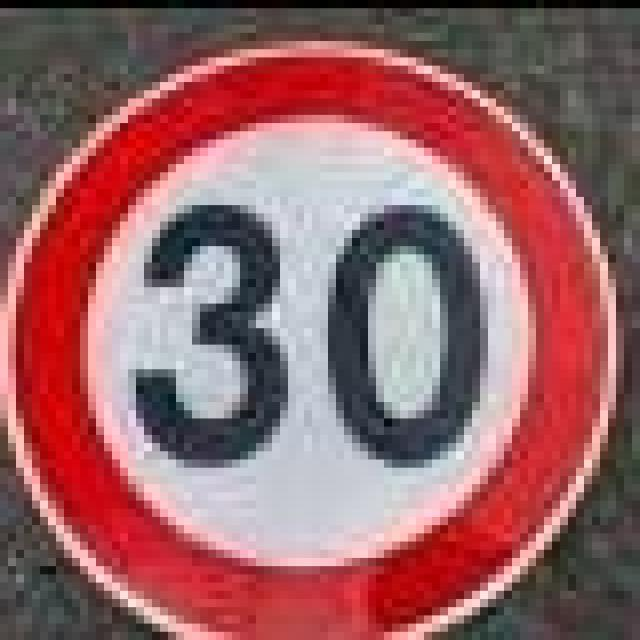Ograniczenie predkosci do 30: (0, 33, 608, 632)
